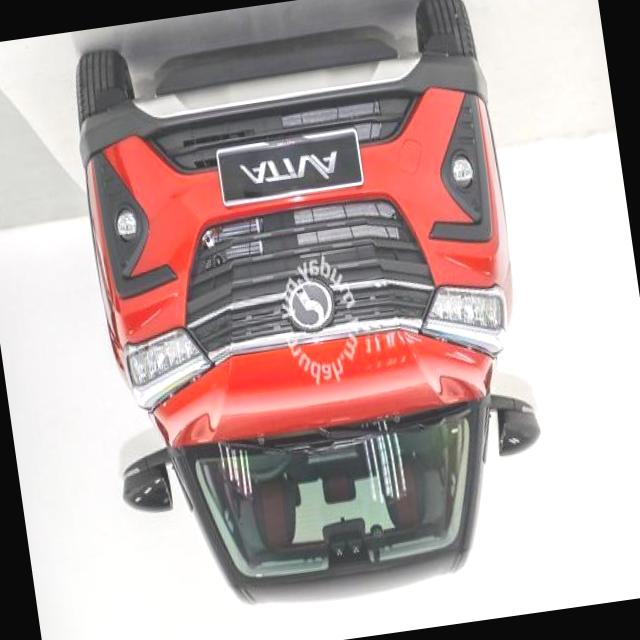PeroduaAtiva: (59, 0, 561, 629)
